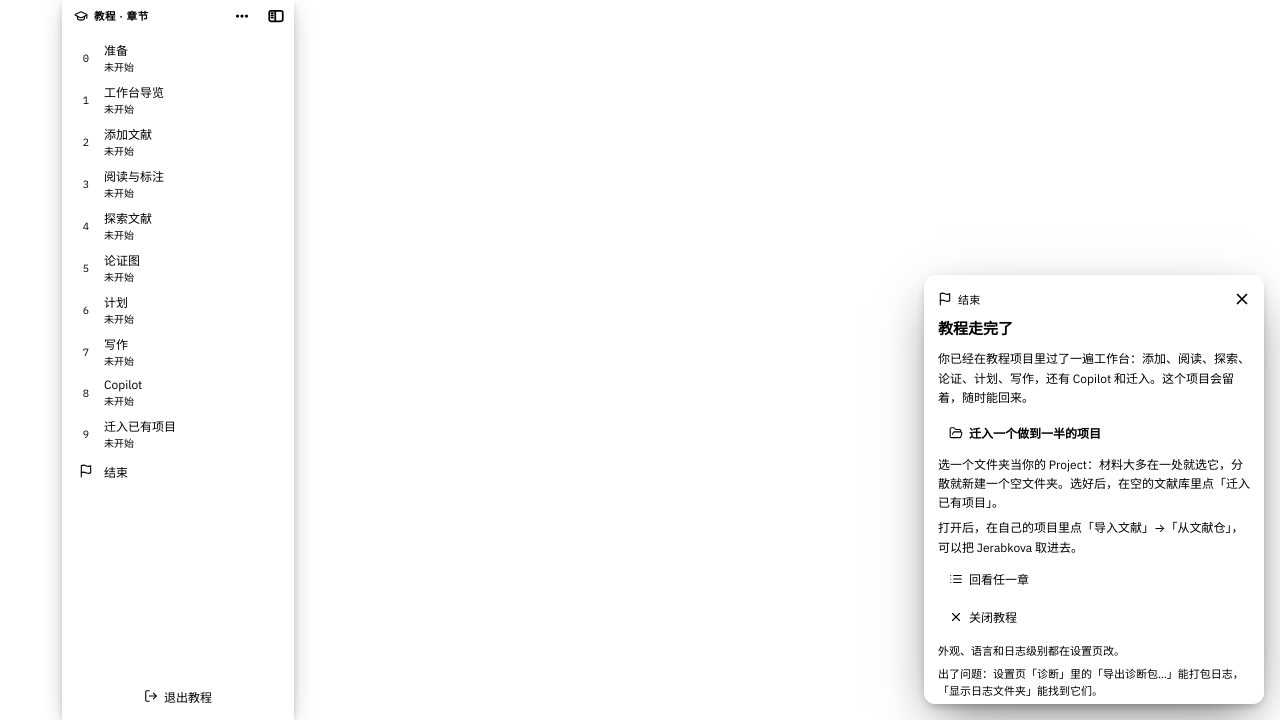
the three ways out › desktop: a request the desktop app did not take is said in the card
Click the button "迁入一个做到一半的项目" at (1094, 433), box [938, 417, 1250, 449]
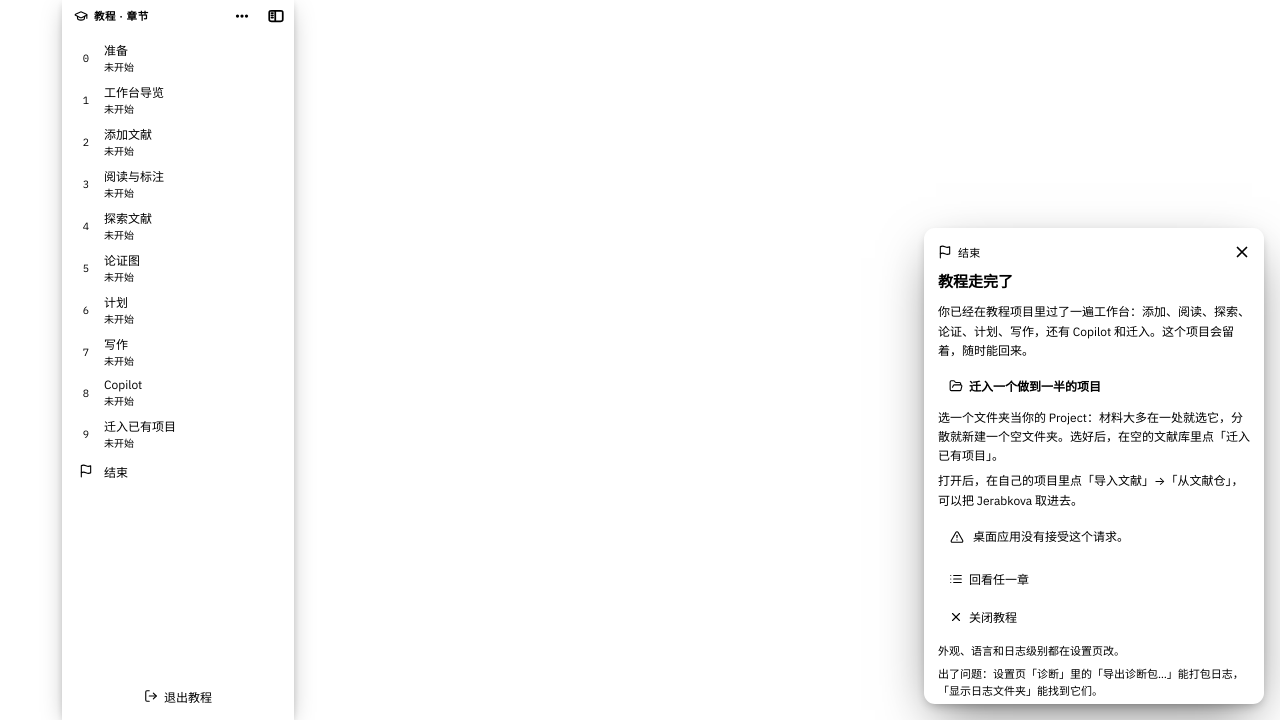
Now the message "桌面应用没有接受这个请求。" is shown, box [950, 529, 1129, 544]
